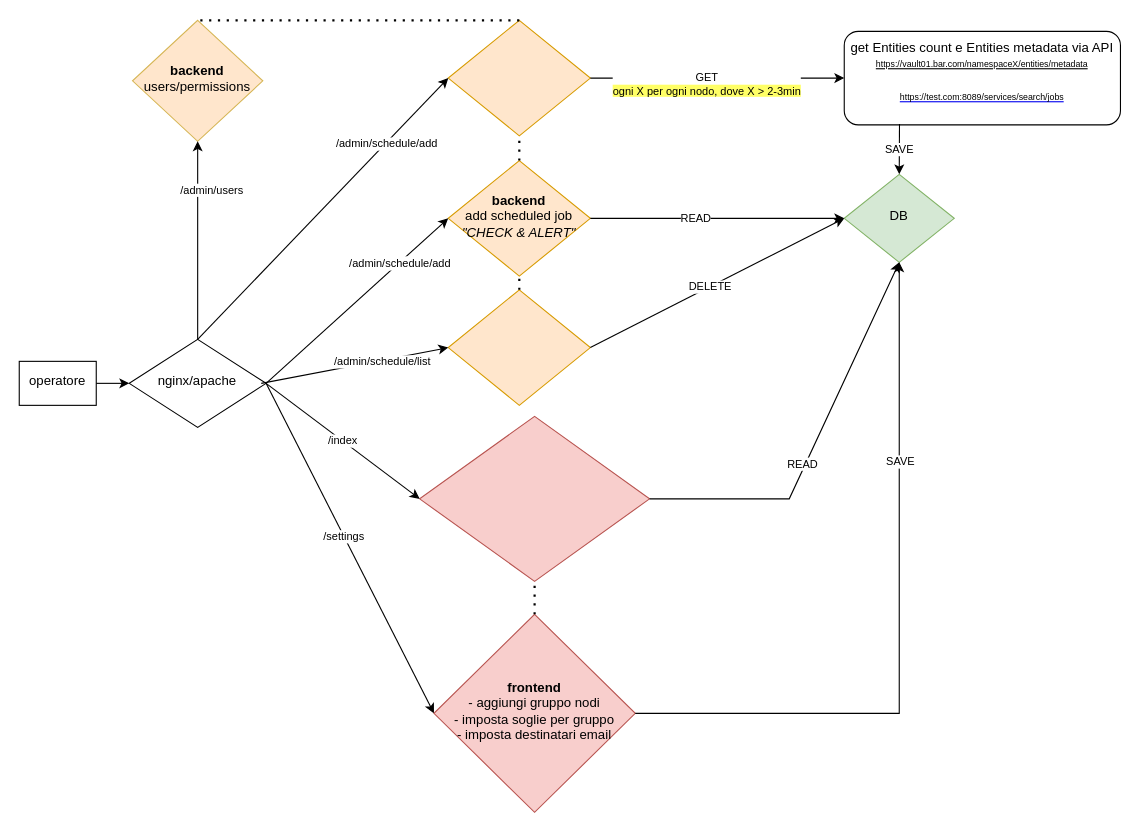
This 1141x832 diagram has some shape labels left out. Each missing label, with the box of its shape:
backend add scheduled job "GET DATA": (447, 19, 590, 136)
backend list & delete "CHECK & ALERT" jobs: (447, 289, 590, 405)
frontend TAB1 conteggio licenze per nodo TAB2 - lista job di allerta attivi: (419, 415, 650, 581)
